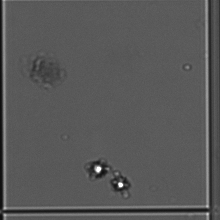Living Cell: (87, 157, 104, 176), (108, 175, 128, 191)
